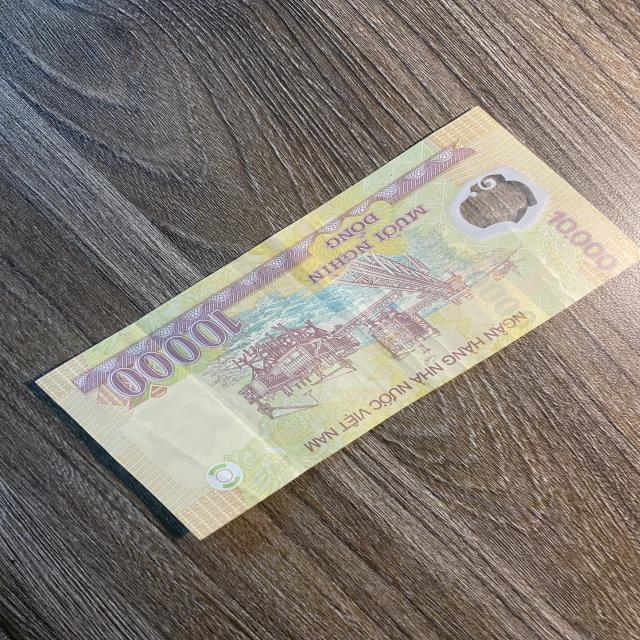10 000 VND: (30, 102, 640, 542)
